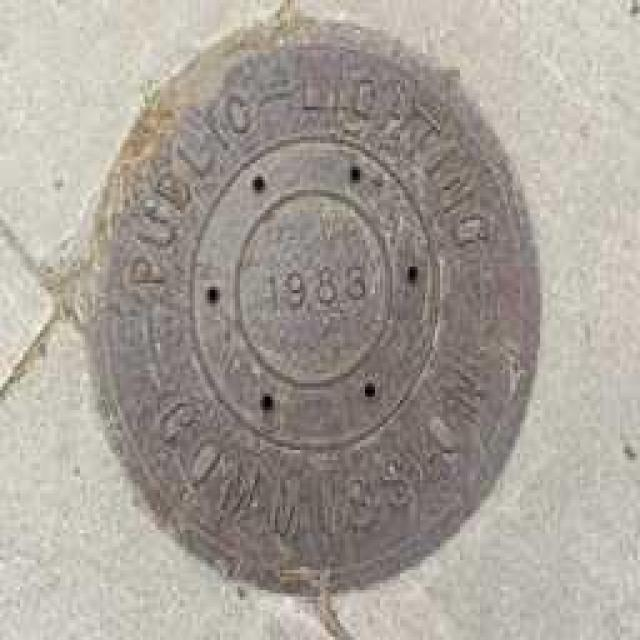manhole: (90, 22, 539, 592)
